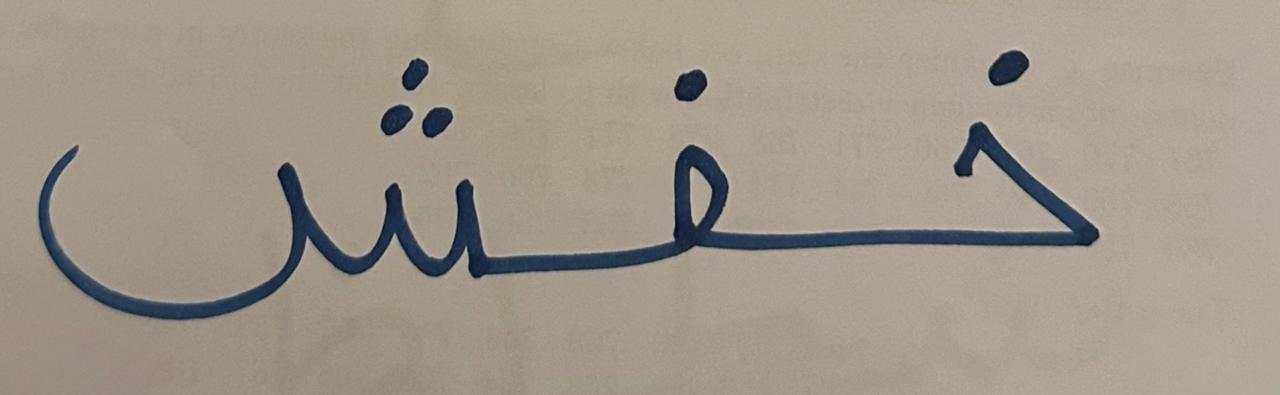feh: (554, 33, 794, 345)
lam: (799, 16, 1146, 333)
tah: (22, 14, 547, 346)
